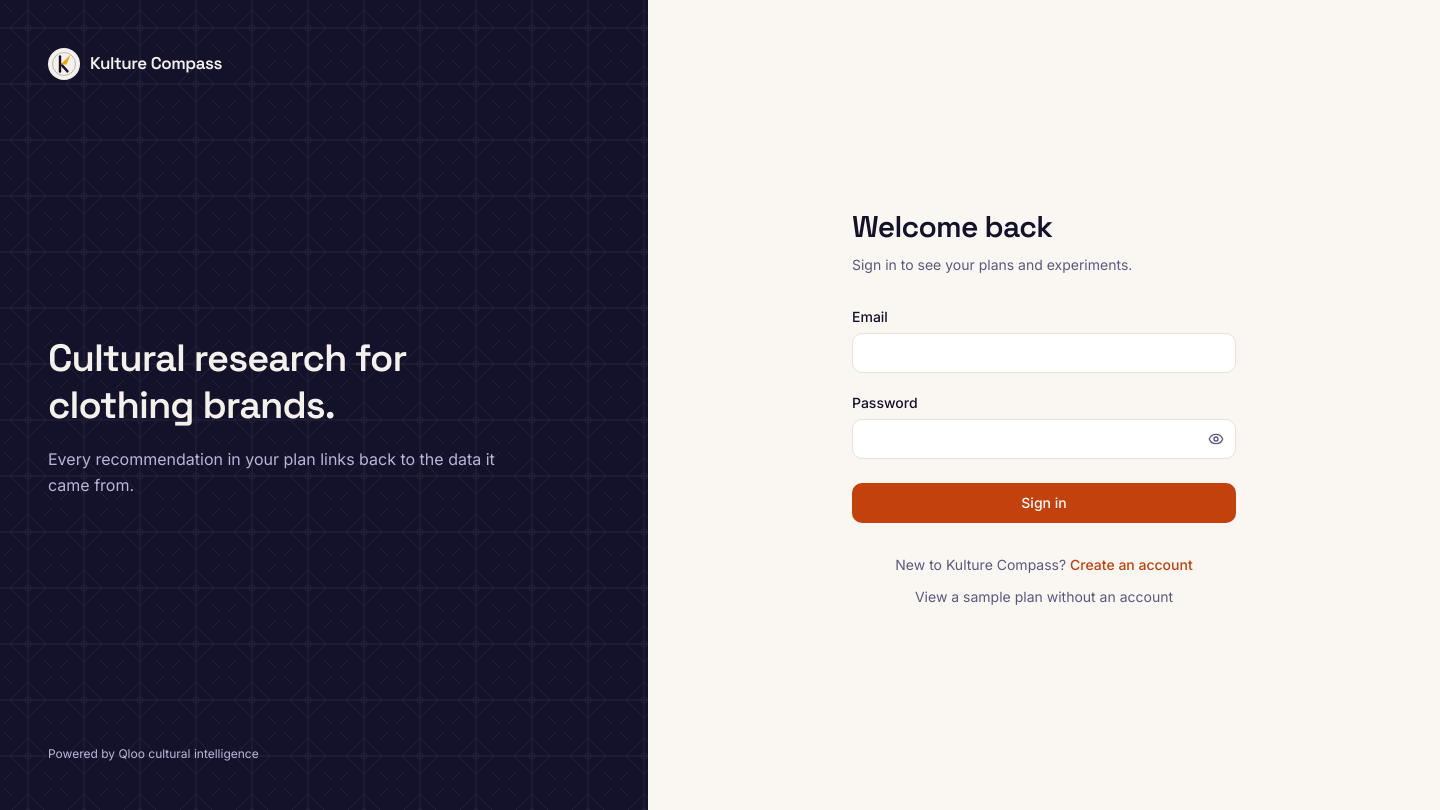
Test case: SignInPage › maps server field errors onto the form
Type "ada@example.com" into the field labelled "Email" at x=1044, y=352, box [852, 332, 1236, 372]
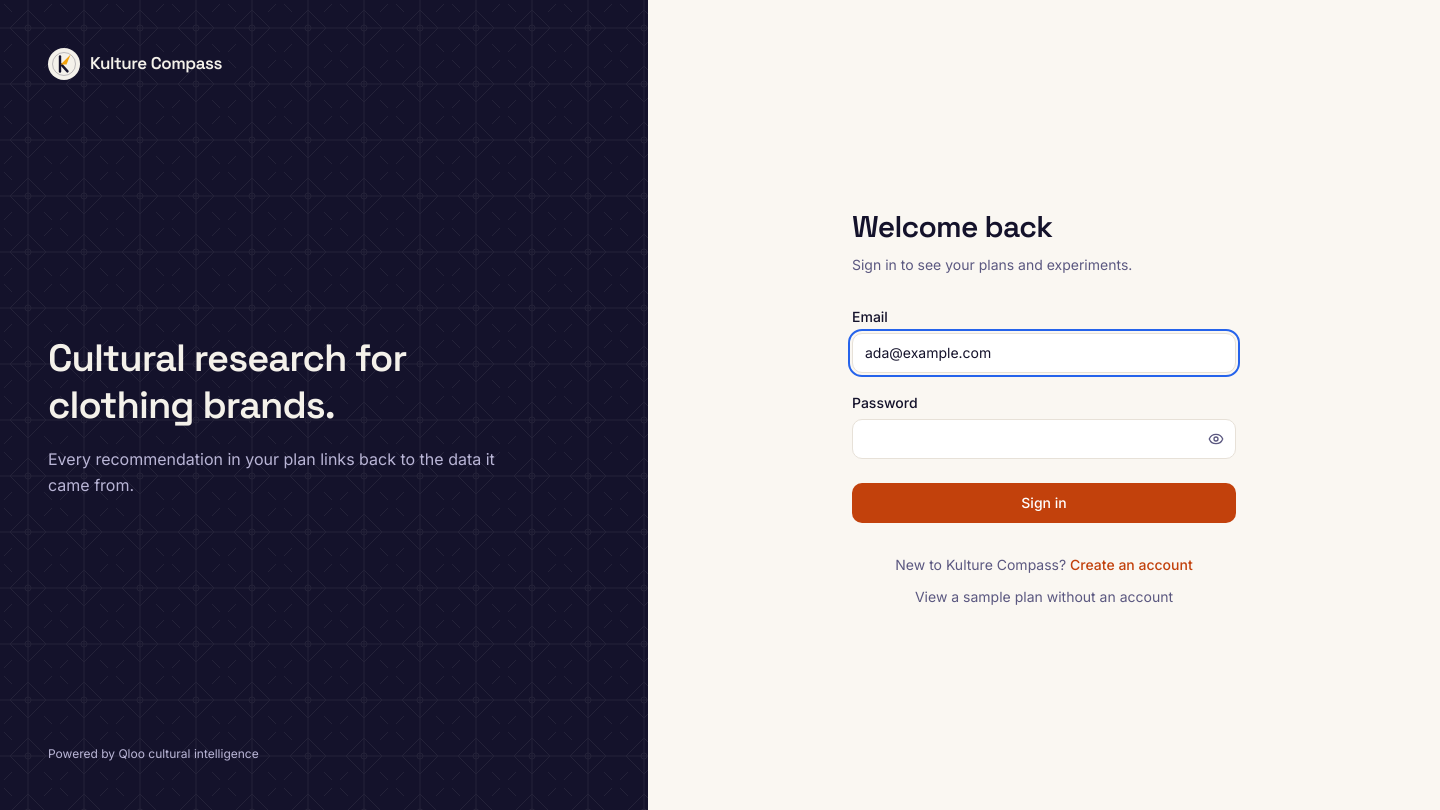
Type "Correct-horse-1" into the password field labelled "Password" at x=1044, y=438, box [852, 418, 1236, 458]
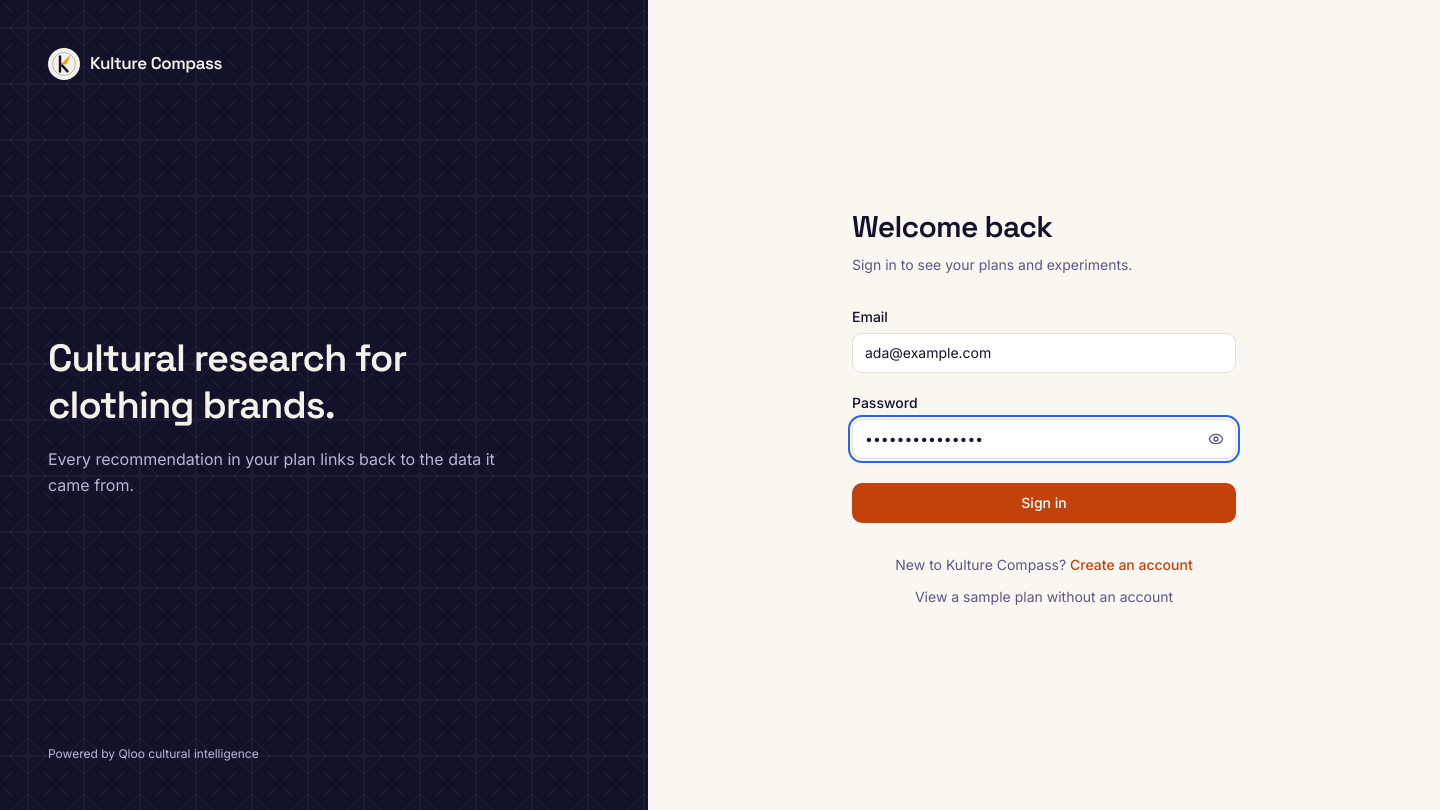
Click the button "Sign in" at x=1044, y=502, box [852, 482, 1236, 522]
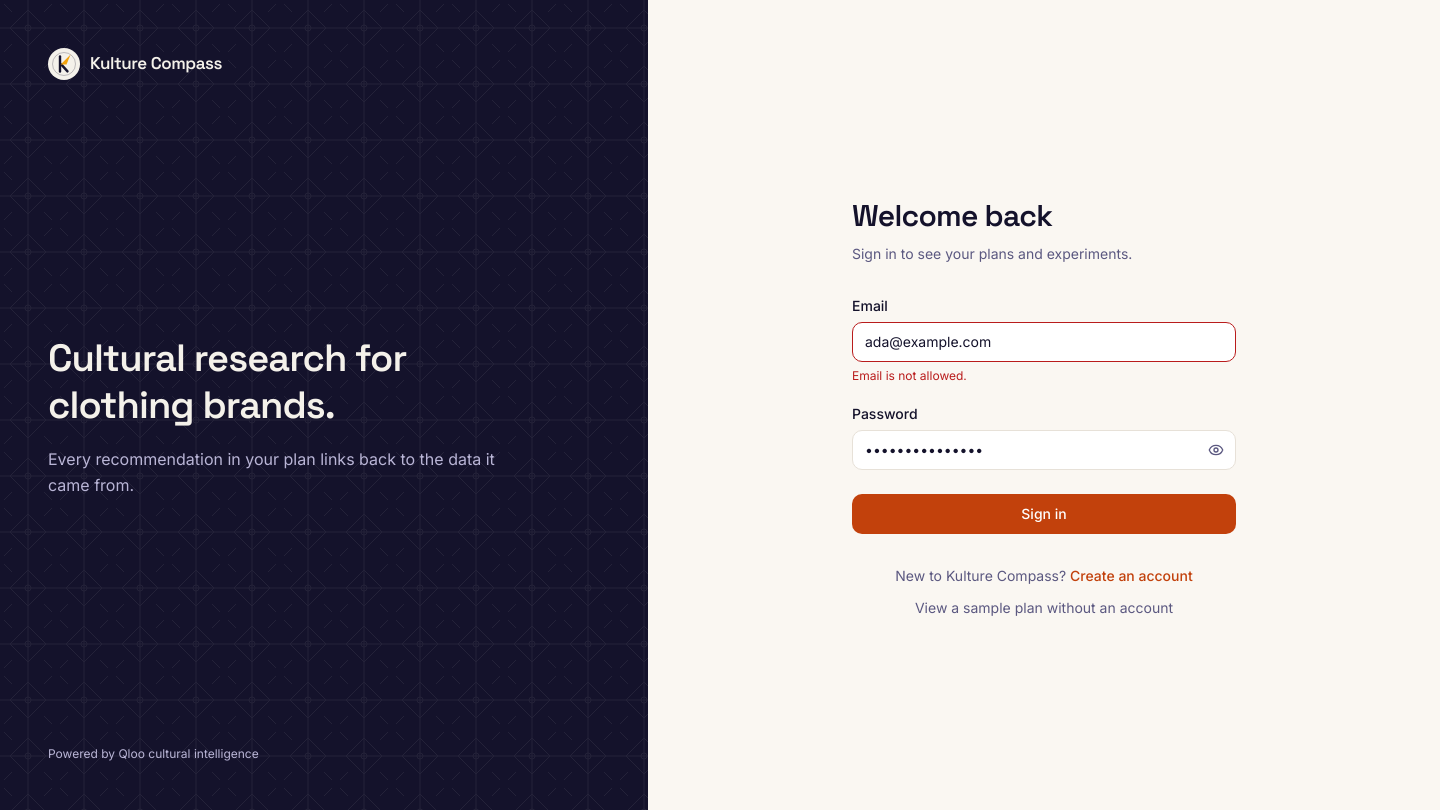
Expected: the text "Email is not allowed." is shown, [852, 368, 967, 382]
